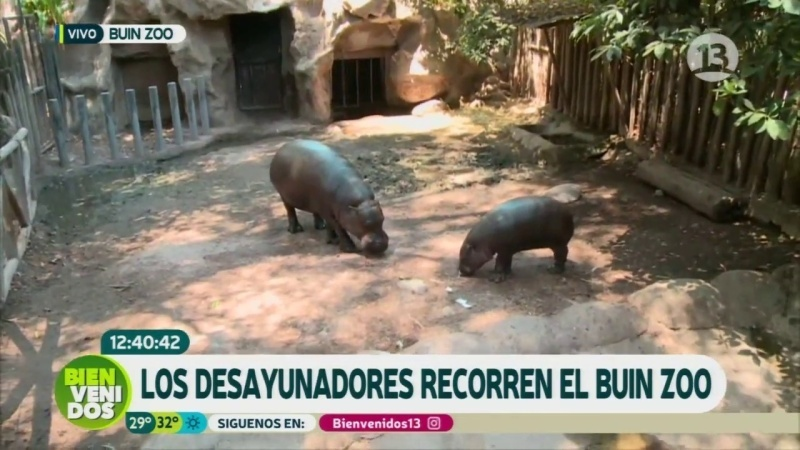hipopotamo: (260, 134, 405, 271), (444, 178, 589, 301)
